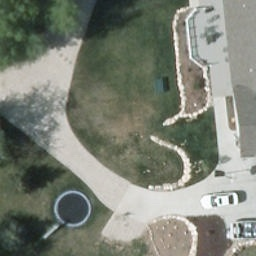car: (200, 191, 243, 209)
